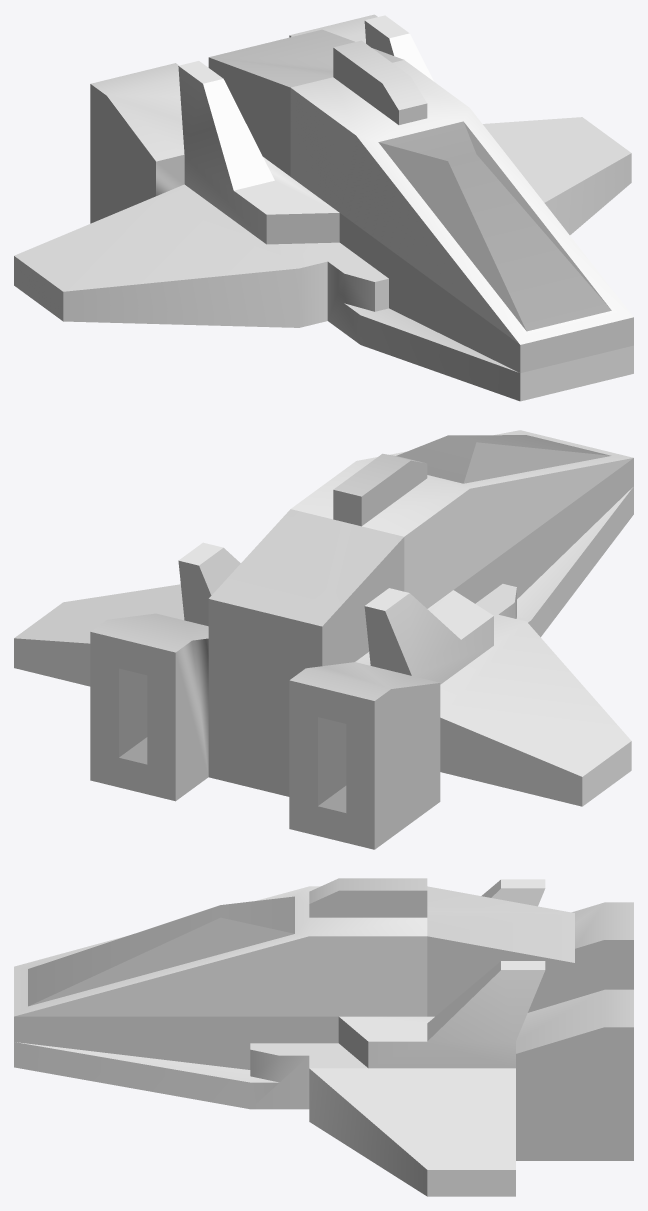
The model's file is river_tug.glb.
3 views of the same model, one above another, from view 1: azimuth 30°, elevation 25°; view 2: azimuth 150°, elevation 25°; view 3: azimuth 270°, elevation 25° (orthographic). The views are drawn at different scales.
Visible parts, largest first — view 1: Body; view 2: Body; view 3: Body.
Part boxes in pixels (x1,y1,x2,y2): Body: (14,14,633,401); Body: (14,430,633,849); Body: (14,878,633,1196).
Bounding box in the file's own units: 3.81 × 1.52 × 4.
2 materials, 1 textured.
